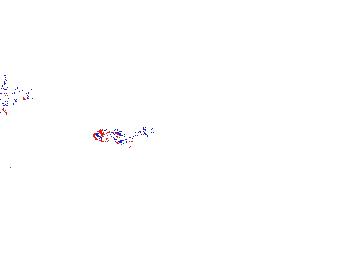X-ray fish: (28, 131, 69, 169)
red belly glassfish: (92, 123, 152, 143), (1, 88, 29, 105)
